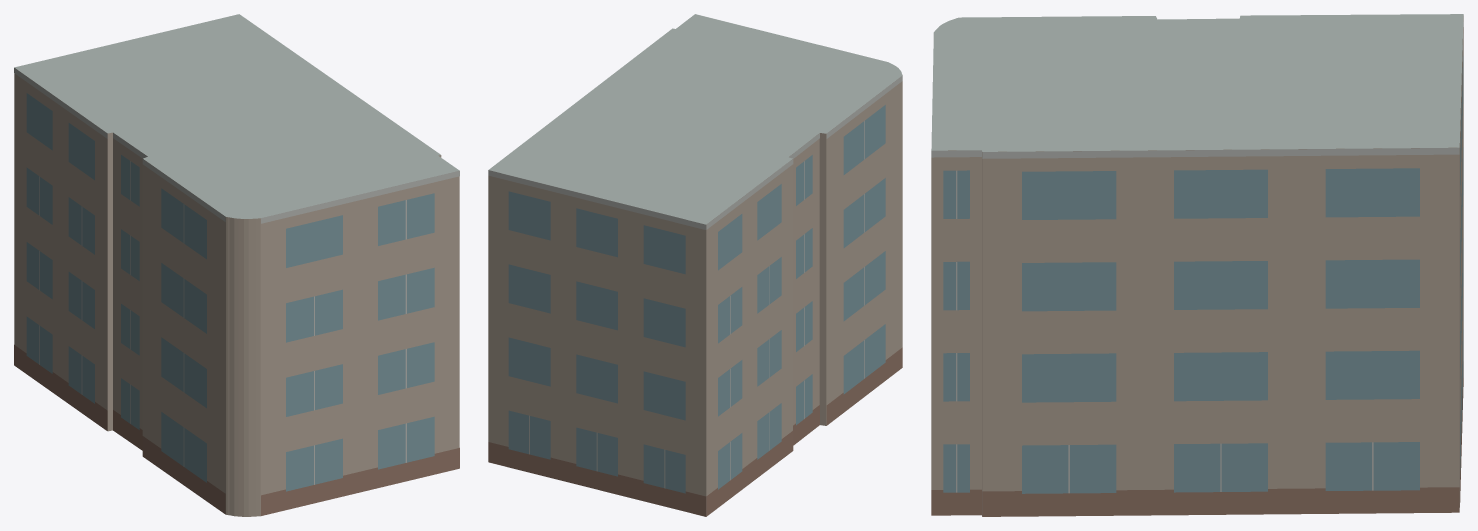
Rendered from survey-upis-32801083.glb.
The picture shows the model from 3 angles, left to right: view 1: azimuth 30°, elevation 25°; view 2: azimuth 150°, elevation 25°; view 3: azimuth 270°, elevation 25°; orthographic projection. The views are drawn at different scales.
Visible parts, largest first — view 1: survey-upis-32801083.tmp; view 2: survey-upis-32801083.tmp; view 3: survey-upis-32801083.tmp.
Part boxes in pixels (bbox=[...]): survey-upis-32801083.tmp: bbox=[14, 14, 459, 516]; survey-upis-32801083.tmp: bbox=[488, 14, 902, 516]; survey-upis-32801083.tmp: bbox=[931, 14, 1463, 516].
Size of the model in its own units: 10.46 by 12.9 by 17.06.
